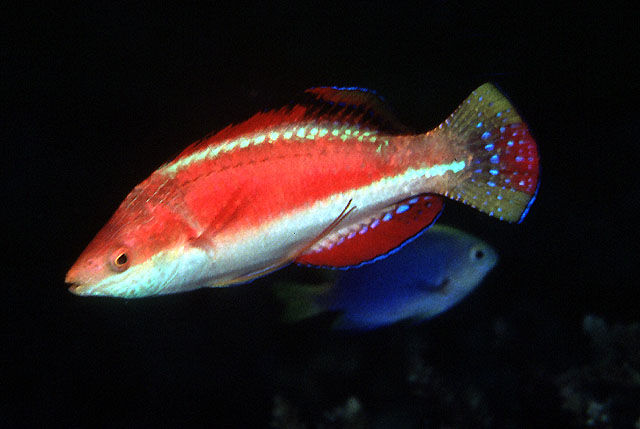fish: (64, 82, 542, 299)
